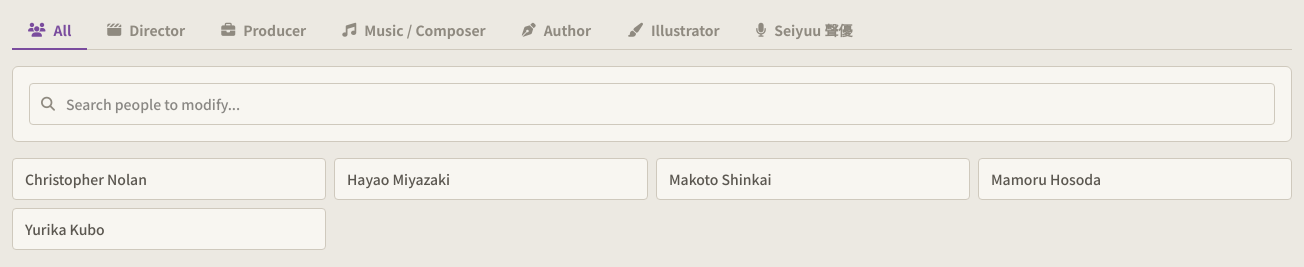
Test: opens on the All tab, listing people who hold no type
Expected: the button "Yurika Kubo" is shown, [12,208,326,250]
Expected: the button "Hayao Miyazaki" is shown, [334,158,648,200]
Note: The mirror case: a type tab does not list the untyped person.
Click the button "Director": (146, 31) [91,12,201,50]
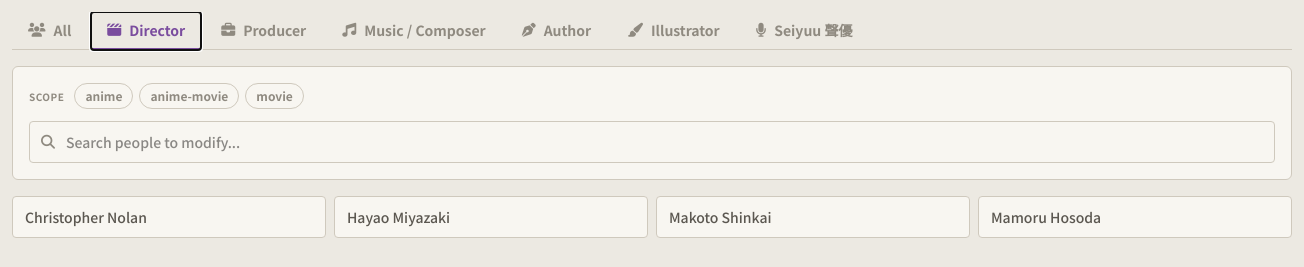
Expected: the button "Hayao Miyazaki" is shown, [334,196,648,238]
Expected: the button "Yurika Kubo" is gone
